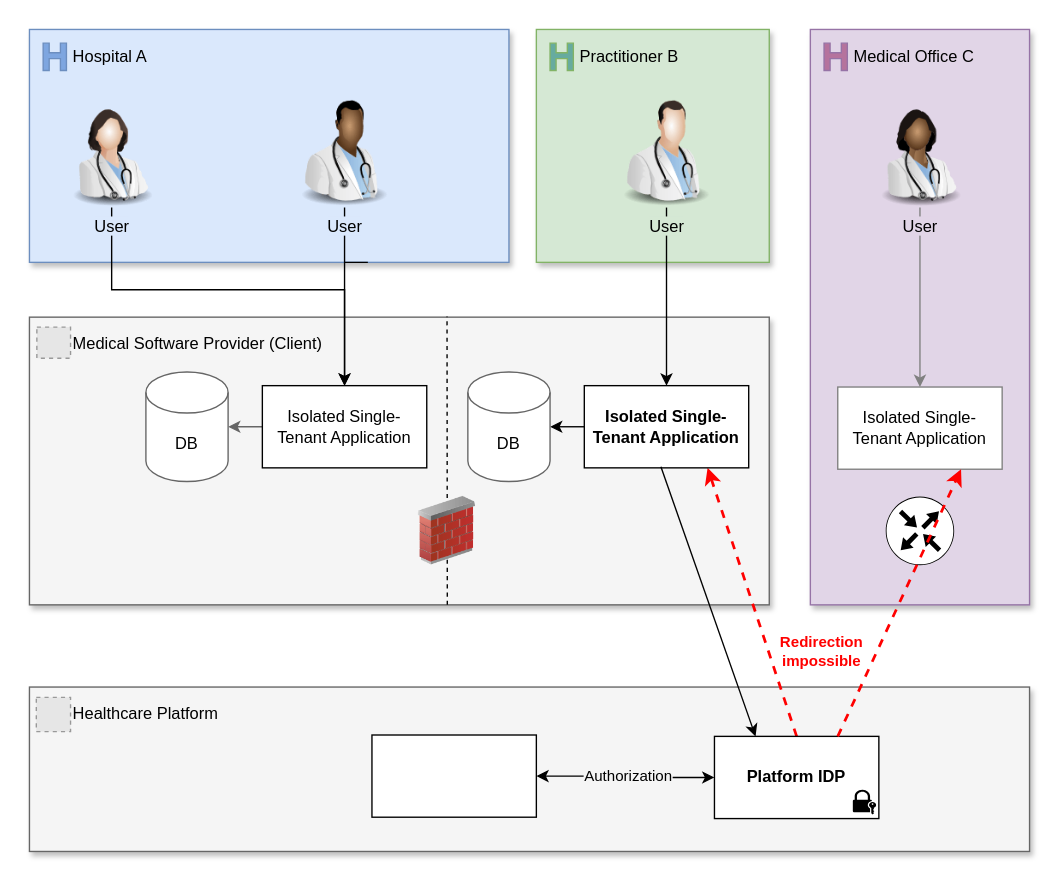
The diagram is 1062 pixels wide and 885 high, and some of its shapes have lost their labels. Grey dashed boxes stand in for pictures. The shapes that lost their labels are listed below. From the top down, each one's centre as x and y in pixels, then its label:
(x=447, y=530): Perimeter Firewall
(x=919, y=530): DSL Router
(x=453, y=775): Platform Services
